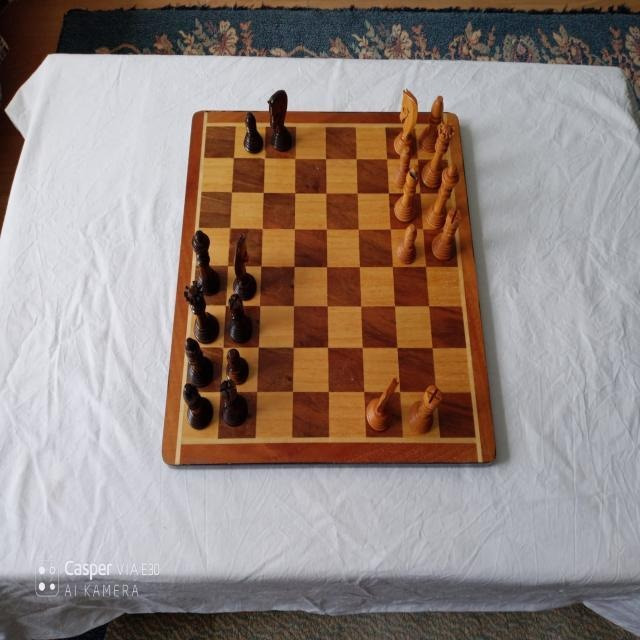black-bishop: (185, 337, 215, 387), (183, 382, 213, 430)
black-king: (191, 229, 221, 295)
black-knight: (232, 232, 257, 300), (267, 88, 293, 151)
black-pawn: (226, 347, 250, 385), (242, 110, 263, 153)
black-queen: (184, 280, 220, 344)
black-rook: (219, 380, 248, 428), (227, 293, 252, 343)
white-bishop: (419, 95, 444, 153), (394, 165, 418, 223)
white-king: (425, 165, 460, 227)
white-knight: (365, 376, 398, 432), (394, 87, 418, 157)
white-pawn: (397, 223, 419, 267), (394, 146, 413, 188)
white-queen: (421, 120, 455, 188)
white-rook: (407, 383, 441, 435), (430, 207, 461, 260)
